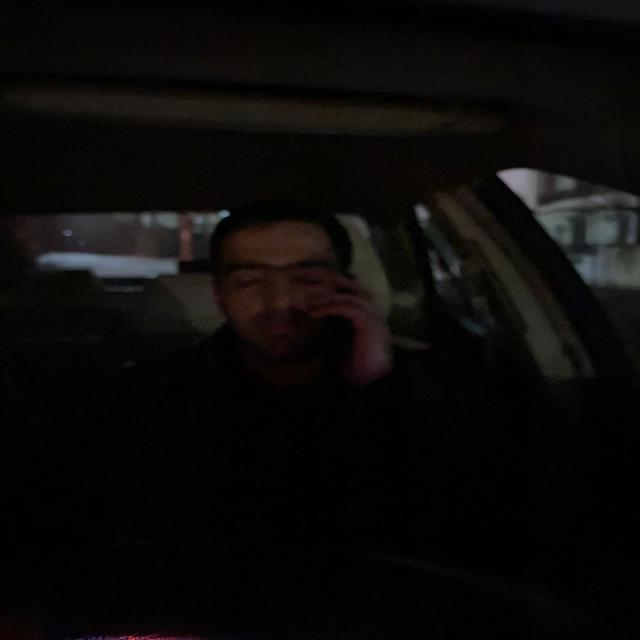mobile: (320, 272, 384, 367)
person: (212, 208, 349, 372)
